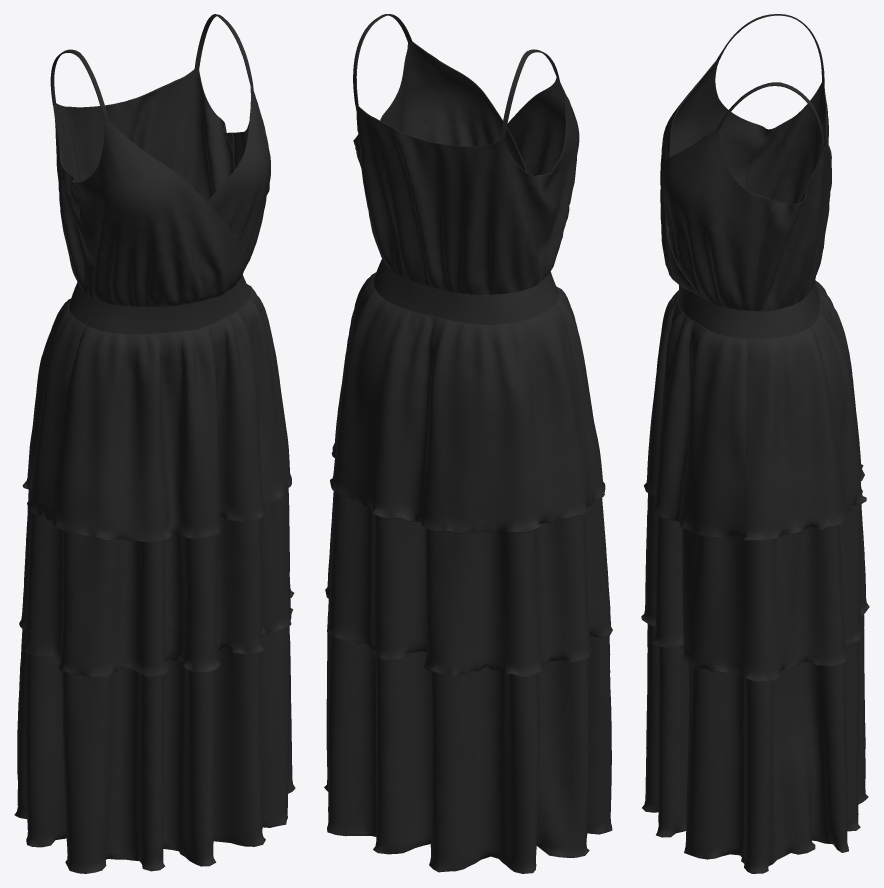
Rendered from black_dress.glb.
3 renders of one model, left to right at view 1: azimuth 30°, elevation 25°; view 2: azimuth 150°, elevation 25°; view 3: azimuth 270°, elevation 25°, orthographic. The views are drawn at different scales.
Parts seen in each view (by area): view 1: Object_5, Object_3, Object_4, Object_13, Object_7, Object_10, Object_8, Object_9, Object_11; view 2: Object_8, Object_10, Object_9, Object_7, Object_5, Object_13, Object_3, Object_4, Object_6; view 3: Object_7, Object_8, Object_10, Object_5, Object_3, Object_9, Object_4, Object_13, Object_6, Object_11.
Boxes of the visible parts, <box> form: Object_5: <box>50,14,291,542</box>; Object_3: <box>62,626,289,873</box>; Object_4: <box>59,487,293,677</box>; Object_13: <box>70,120,245,306</box>; Object_7: <box>53,69,270,296</box>; Object_10: <box>14,629,295,847</box>; Object_8: <box>22,298,85,520</box>; Object_9: <box>19,490,294,658</box>; Object_11: <box>85,275,250,334</box>; Object_8: <box>330,272,593,533</box>; Object_10: <box>324,599,589,873</box>; Object_9: <box>325,491,591,677</box>; Object_7: <box>353,41,552,294</box>; Object_5: <box>353,14,605,501</box>; Object_13: <box>507,77,579,276</box>; Object_3: <box>587,635,612,834</box>; Object_4: <box>584,498,612,637</box>; Object_6: <box>373,259,552,316</box>; Object_7: <box>662,82,831,311</box>; Object_8: <box>743,280,866,541</box>; Object_10: <box>744,615,868,873</box>; Object_5: <box>644,14,824,539</box>; Object_3: <box>642,624,745,863</box>; Object_9: <box>740,504,869,682</box>; Object_4: <box>641,493,743,675</box>; Object_13: <box>660,60,760,296</box>; Object_6: <box>747,283,819,338</box>; Object_11: <box>678,285,749,338</box>.
Bounding box in the file's own units: 423 × 1202 × 325.
Materials: 1 (1 with a texture image).
